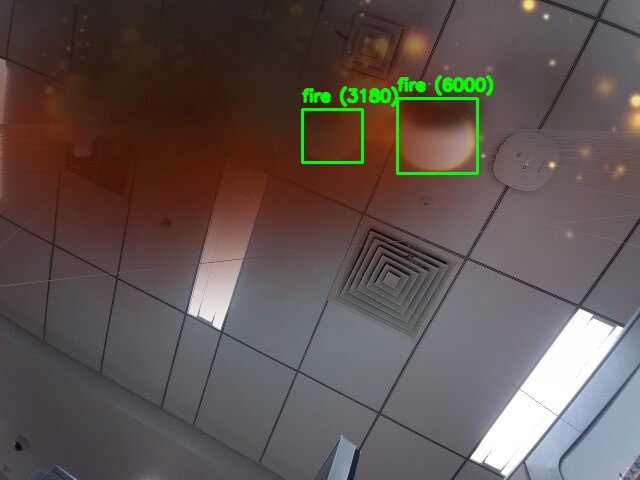fire: (397, 98, 477, 173), (302, 109, 362, 162)
